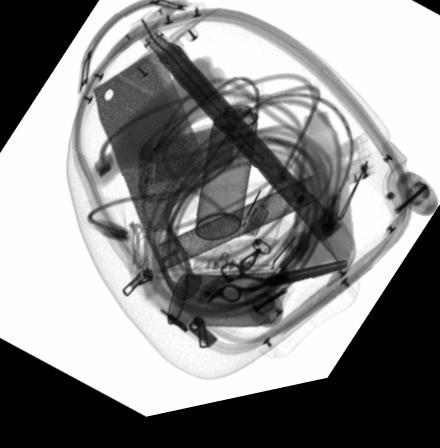Knife: (91, 54, 209, 308)
Scissors: (203, 270, 347, 314)
Sprayer: (194, 95, 262, 249)
